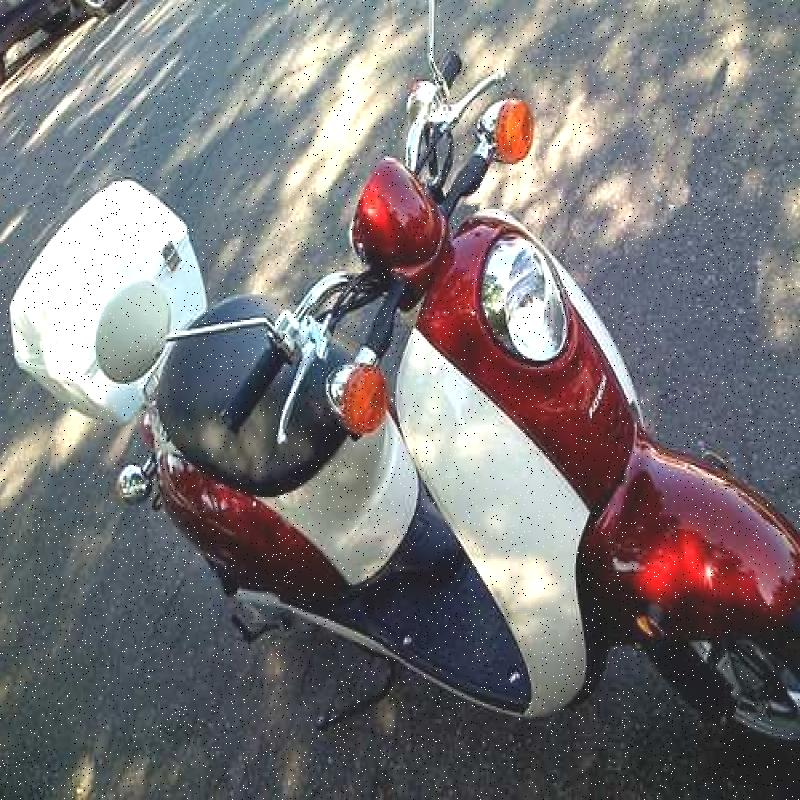bike: (83, 43, 774, 699)
